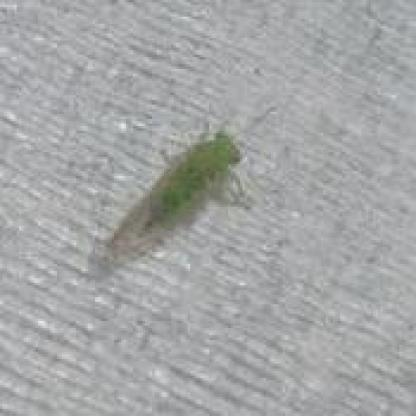Green-Leafhopper: (150, 108, 262, 228)
